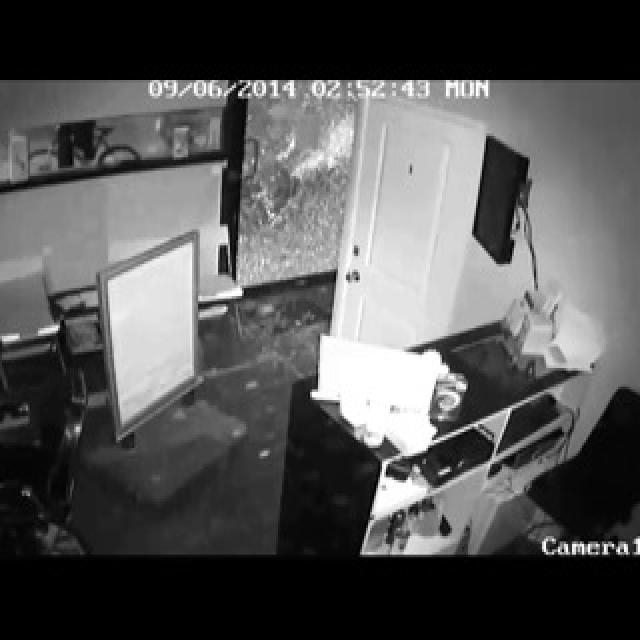burglary: (218, 107, 346, 311)
